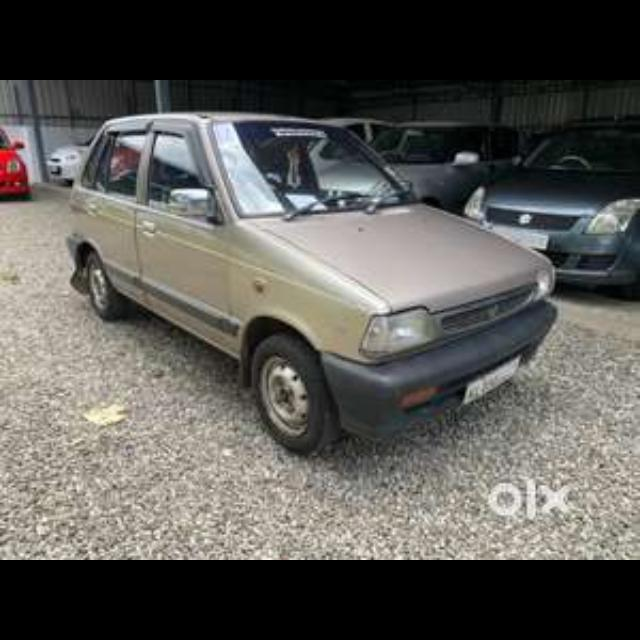number-plate: (464, 346, 526, 406), (491, 222, 550, 255)
vehicles: (72, 110, 554, 454), (467, 117, 638, 300), (0, 124, 40, 202)
